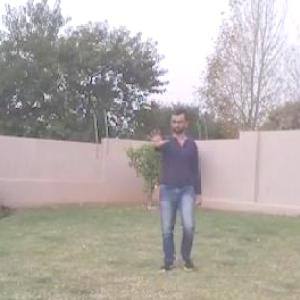follow_hand: (143, 123, 169, 149)
